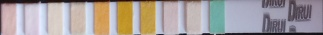color 1: (2, 6, 14, 33)
color 10: (210, 2, 223, 32)
color 2: (26, 6, 38, 35)
color 3: (49, 4, 61, 34)
color 4: (72, 4, 84, 33)
color 5: (95, 4, 108, 33)
color 6: (118, 3, 130, 33)
color 7: (142, 3, 153, 33)
color 8: (165, 3, 176, 33)
color 9: (188, 4, 199, 32)
